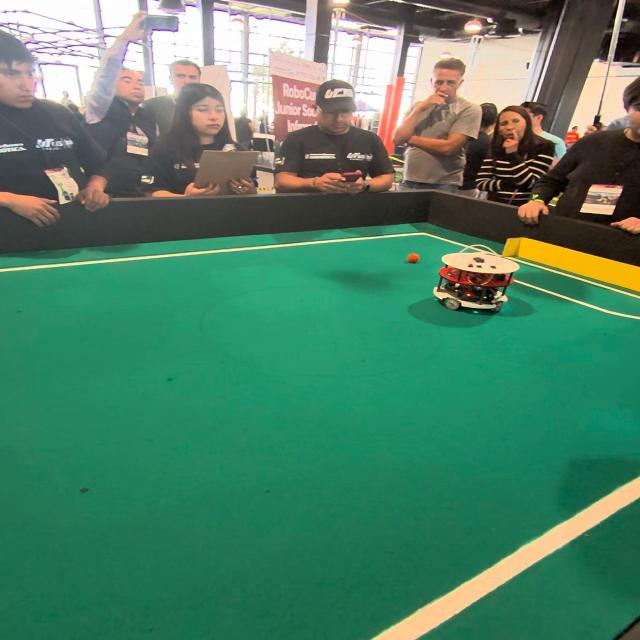Robot: (437, 241, 517, 321)
pelota: (408, 252, 420, 262)
